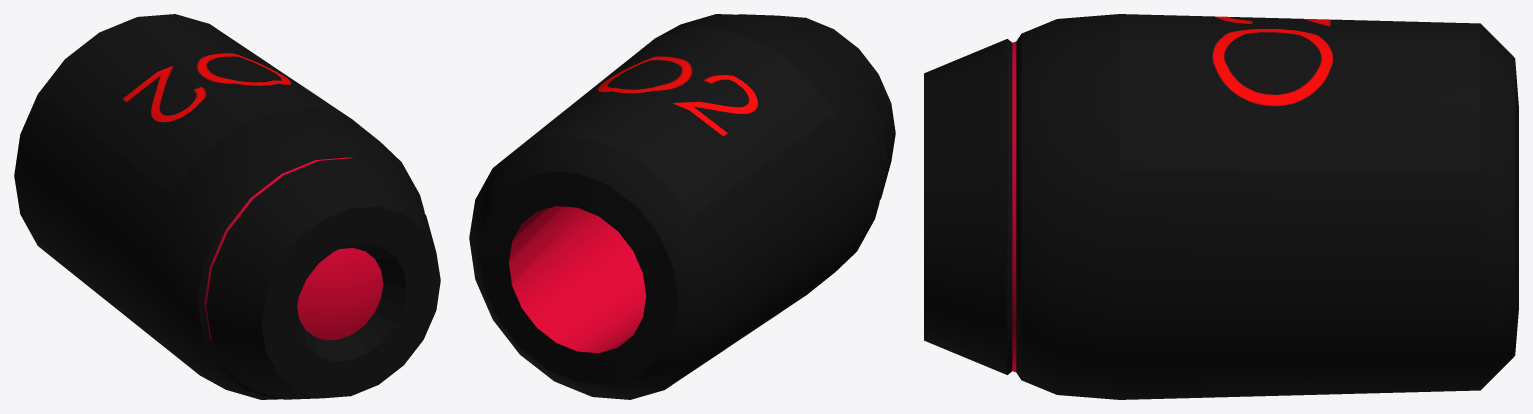
Rendered from megaman_hand_02 (1).fbx.
3 renders of one model, left to right at view 1: azimuth 30°, elevation 25°; view 2: azimuth 150°, elevation 25°; view 3: azimuth 270°, elevation 25°, orthographic. The views are drawn at different scales.
Parts seen in each view (by area): view 1: pCylinder3; view 2: pCylinder3; view 3: pCylinder3.
Boxes of the visible parts, <box> form: pCylinder3: <box>14,14,440,399</box>; pCylinder3: <box>469,14,895,399</box>; pCylinder3: <box>924,14,1518,399</box>.
Bounding box in the file's own units: 18.37 × 18.37 × 28.1.
3 materials, 1 textured.
